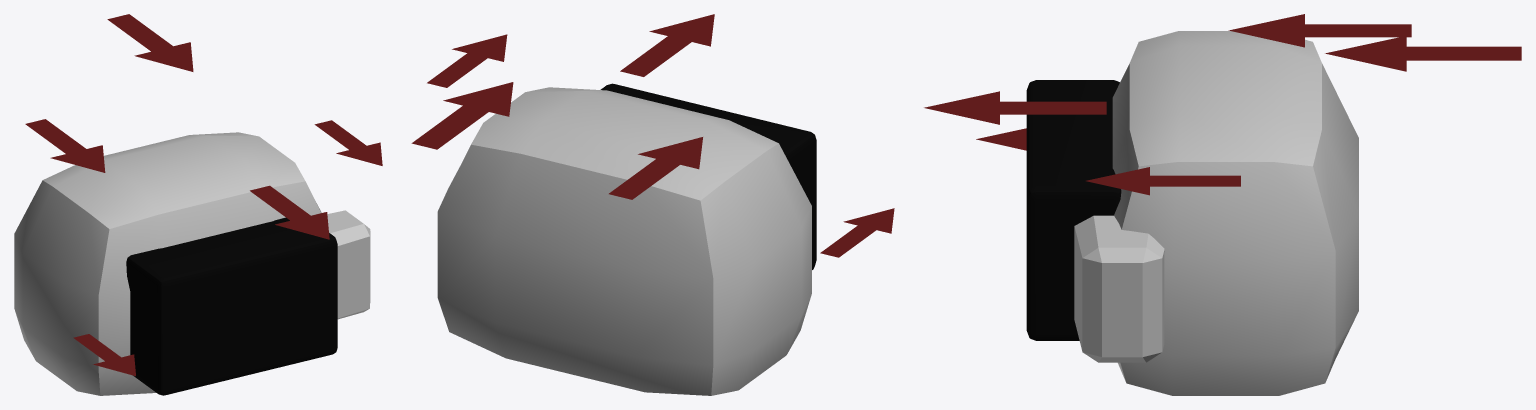
Rendered from Weak Boost Powerup.fbx.
3 views of the same model, side by side, from view 1: azimuth 30°, elevation 25°; view 2: azimuth 150°, elevation 25°; view 3: azimuth 270°, elevation 25° (orthographic). The views are drawn at different scales.
Visible parts, largest first — view 1: pCube1, pCube2, pCube3, pPlane2, pPlane3, pPlane4, pPlane5, pPlane1; view 2: pCube1, pCube2, pPlane2, pPlane3, pPlane4, pPlane5, pPlane1; view 3: pCube1, pCube2, pCube3, pPlane2, pPlane4, pPlane3, pPlane5, pPlane1.
Part boxes in pixels (box(x1,y1,x2,y2)): pCube1: box(14, 132, 321, 395); pCube2: box(126, 217, 337, 395); pCube3: box(327, 210, 370, 319); pPlane2: box(107, 14, 193, 71); pPlane3: box(25, 119, 105, 172); pPlane4: box(250, 185, 329, 239); pPlane5: box(314, 120, 382, 165); pPlane1: box(73, 334, 135, 376); pCube1: box(437, 87, 811, 395); pCube2: box(600, 83, 816, 269); pPlane2: box(411, 82, 513, 149); pPlane3: box(609, 137, 702, 199); pPlane4: box(620, 14, 714, 76); pPlane5: box(427, 34, 507, 87); pPlane1: box(820, 208, 894, 257); pCube1: box(1112, 31, 1358, 395); pCube2: box(1026, 80, 1121, 340); pCube3: box(1074, 215, 1164, 362); pPlane2: box(1325, 36, 1521, 71); pPlane4: box(924, 91, 1106, 124); pPlane3: box(1228, 14, 1411, 47); pPlane5: box(1086, 167, 1240, 195); pPlane1: box(976, 128, 1026, 150).
Bounding box in the file's own units: 3.93 × 2.82 × 4.72.
